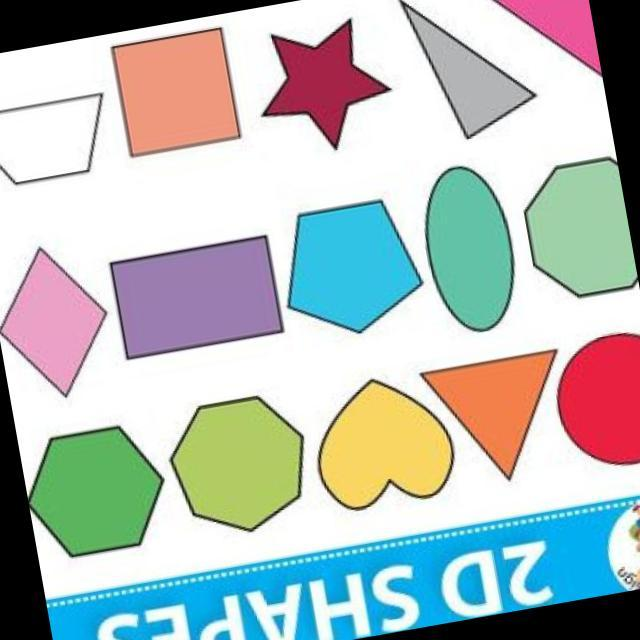circle: (551, 313, 640, 472)
square: (96, 17, 256, 168)
triangle: (386, 0, 552, 153), (409, 342, 575, 490)
